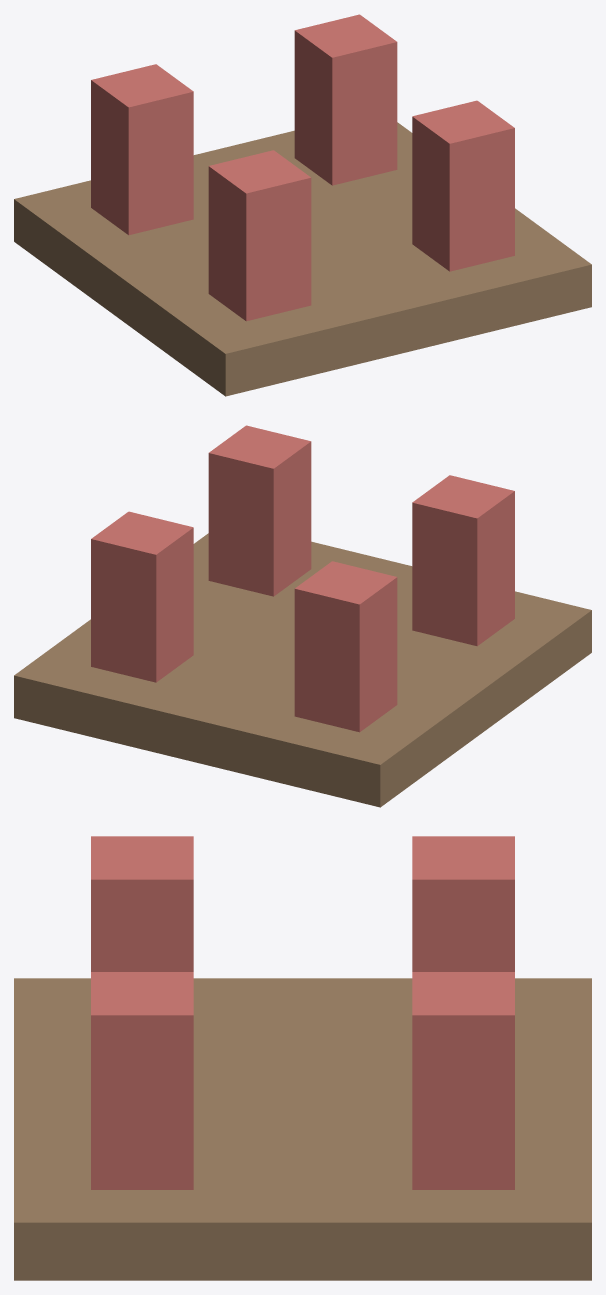
The model's file is Prop_DS_Crop_Bitroot_S2_V1.glb.
The picture shows the model from 3 angles, top to bottom: view 1: azimuth 30°, elevation 25°; view 2: azimuth 150°, elevation 25°; view 3: azimuth 270°, elevation 25°; orthographic projection. The views are drawn at different scales.
Visible parts, largest first — view 1: Cube, Cube.004, Cube.001, Cube.002, Cube.003; view 2: Cube, Cube.003, Cube.002, Cube.001, Cube.004; view 3: Cube, Cube.003, Cube.004, Cube.001, Cube.002.
Part boxes in pixels (x1,y1,x2,y2): Cube: (14, 122, 591, 396); Cube.004: (294, 14, 397, 185); Cube.001: (208, 150, 311, 321); Cube.002: (91, 64, 193, 235); Cube.003: (412, 100, 514, 271); Cube: (14, 533, 591, 807); Cube.003: (208, 425, 311, 596); Cube.002: (294, 561, 397, 732); Cube.001: (412, 475, 514, 646); Cube.004: (91, 511, 193, 682); Cube: (14, 978, 591, 1280); Cube.003: (91, 972, 193, 1189); Cube.004: (412, 972, 514, 1189); Cube.001: (91, 836, 193, 971); Cube.002: (412, 836, 514, 971).
Size of the model in its own units: 0.9 by 0.4 by 0.9.
